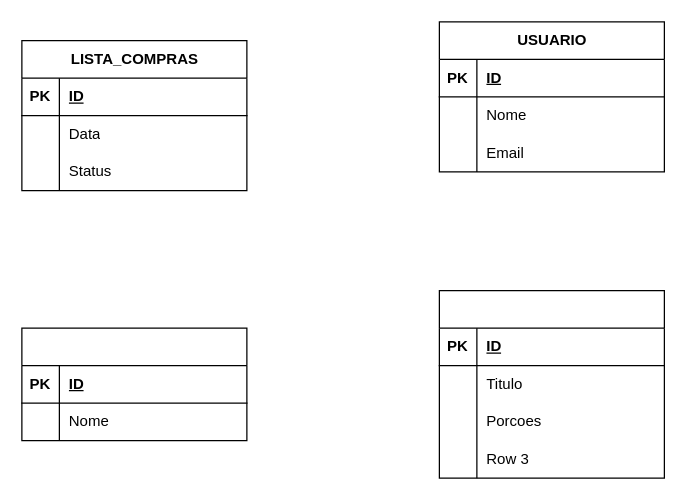
Some shapes in this 686 by 500 pixel diagram are drawn without their labels. Each missing label, with the box of its shape:
INGREDIENTE: (21, 327, 247, 441)
RECEITA: (438, 289, 664, 478)
